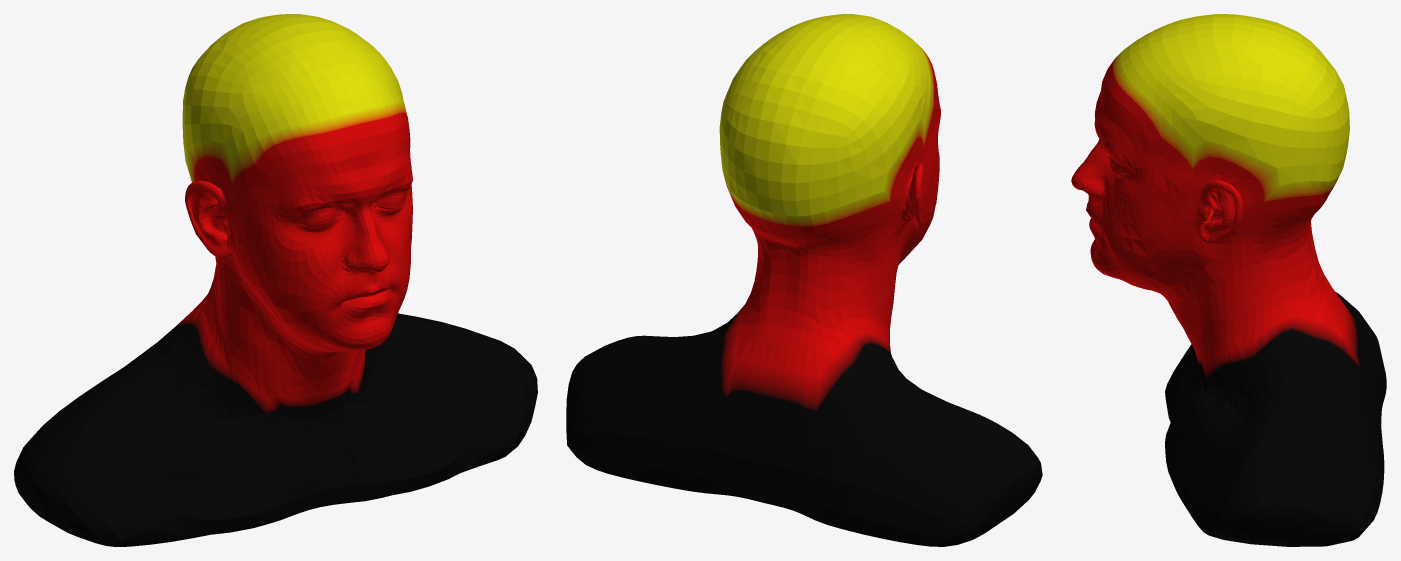
File: HeadWithVertexColors.fbx
3 views of the same model, side by side, from view 1: azimuth 30°, elevation 25°; view 2: azimuth 150°, elevation 25°; view 3: azimuth 270°, elevation 25° (orthographic). The views are drawn at different scales.
Parts seen in each view (by area): view 1: Head; view 2: Head; view 3: Head.
Boxes of the visible parts, x1,y1,x2,y2 form: Head: (14, 14, 537, 546); Head: (566, 14, 1042, 546); Head: (1071, 14, 1386, 546).
Size of the model in its own units: 100 by 92.92 by 60.59.
